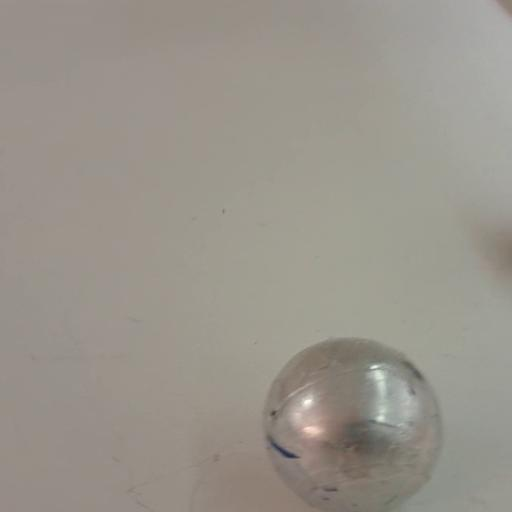alive: (257, 332, 446, 512)
